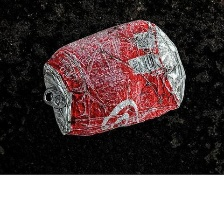can: (34, 13, 188, 143)
